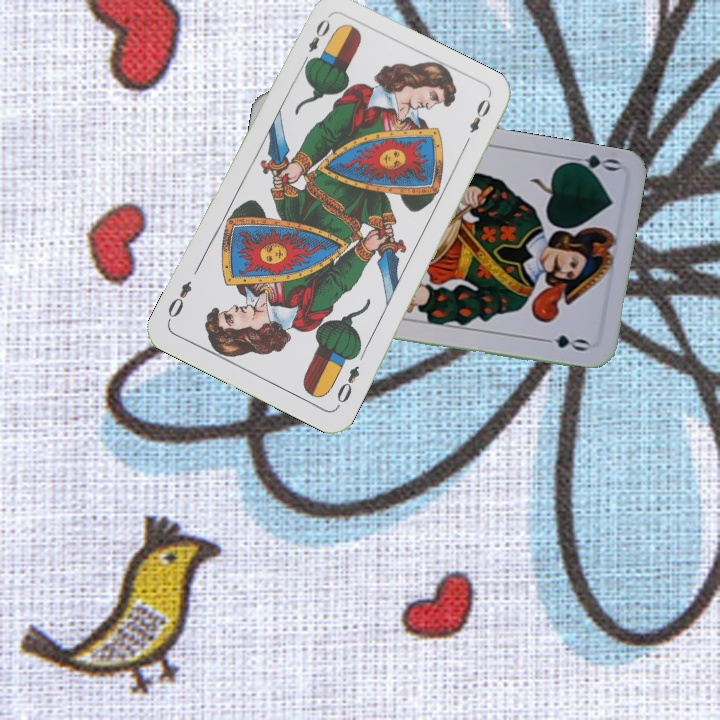EO: (298, 15, 333, 70), (332, 361, 362, 411)
GO: (562, 150, 622, 179)
